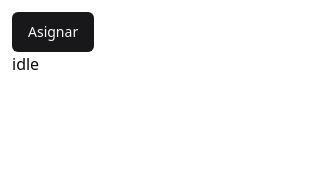
Test: assign dialog confirmation flow › disables assign button while request is in flight
Later steps or results of the test are not shown.
Click the button "Asignar": (53, 32) left=12, top=12, right=94, bottom=52
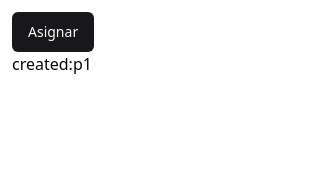
expect the text with test id "status" reads "created:p1": met, box left=12, top=53, right=92, bottom=75
